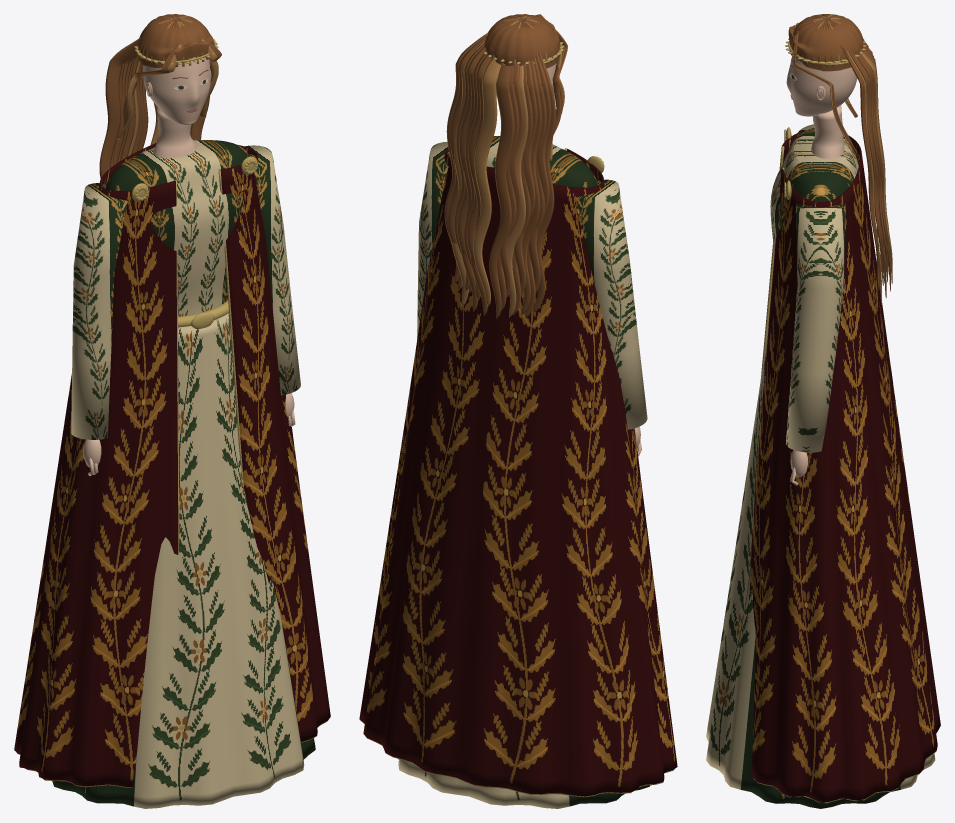
The model's file is princess-v16-standing.glb.
3 views of the same model, side by side, from view 1: azimuth 30°, elevation 25°; view 2: azimuth 150°, elevation 25°; view 3: azimuth 270°, elevation 25° (orthographic).
Visible parts, largest first — view 1: cape_surface, MorrisPrincess_surface, body_surface, head_surface, armL_surface, armR_surface; view 2: cape_surface, head_surface, armL_surface, MorrisPrincess_surface, armR_surface, body_surface; view 3: cape_surface, MorrisPrincess_surface, armR_surface, head_surface, body_surface.
Part boxes in pixels (x1,y1,x2,y2): cape_surface: [14, 143, 330, 787]; MorrisPrincess_surface: [52, 313, 315, 808]; body_surface: [105, 108, 257, 328]; head_surface: [99, 14, 221, 178]; armL_surface: [71, 183, 127, 475]; armR_surface: [245, 145, 300, 426]; cape_surface: [359, 147, 677, 797]; head_surface: [444, 14, 567, 318]; armL_surface: [576, 179, 647, 456]; MorrisPrincess_surface: [398, 759, 650, 808]; armR_surface: [417, 142, 449, 339]; body_surface: [486, 136, 604, 187]; cape_surface: [749, 130, 940, 803]; MorrisPrincess_surface: [706, 326, 935, 808]; armR_surface: [786, 203, 845, 485]; head_surface: [785, 14, 892, 304]; body_surface: [770, 105, 858, 299].
Size of the model in its own units: 0.6912 by 1.66 by 0.4759.
12 materials, 2 textured.
